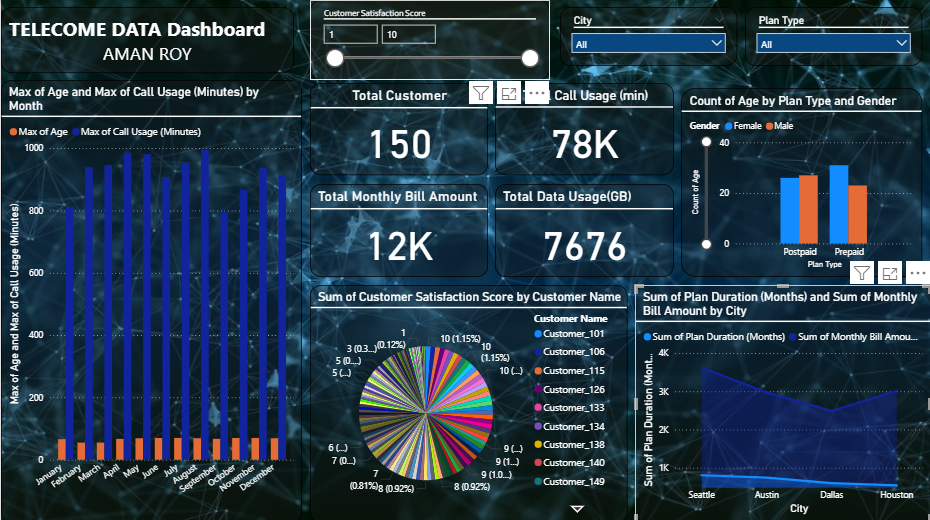

Layout of this report page (visuals, bound fields, positions):
{"tool":"powerbi","page":{"name":"Page 1","canvas":[1280,720],"ordinal":0},"visuals":[{"type":"card","title":"Total Call Usage (min)","fields":{"Values":["Sum(Telecom_Dataset_150.Call Usage (Minutes))"]},"box":[679.9,114.2,246.4,126.6],"z":0},{"type":"card","title":"Total Data Usage(GB)","fields":{"Values":["Sum(Telecom_Dataset_150.Data Usage (GB))"]},"box":[679.9,253.2,246.4,128],"z":1000},{"type":"card","title":"Total Customer","fields":{"Values":["Count(Telecom_Dataset_150.Customer Name)"]},"box":[425.3,114.2,245,126.6],"z":2000},{"type":"card","title":"Total Monthly Bill Amount","fields":{"Values":["Sum(Telecom_Dataset_150.Monthly Bill Amount)"]},"box":[425.3,253.2,245,128],"z":3000},{"type":"clusteredColumnChart","fields":{"Y":["Count(Telecom_Dataset_150.Age)"],"Series":["Telecom_Dataset_150.Gender"],"Category":["Telecom_Dataset_150.Plan Type"]},"box":[935.9,121.1,331.7,260.1],"z":4000},{"type":"slicer","fields":{"Values":["Telecom_Dataset_150.City"]},"box":[770,10,244.3,81.4],"z":5000},{"type":"slicer","fields":{"Values":["Telecom_Dataset_150.Plan Type"]},"box":[1024.3,10,244.3,81.4],"z":6000},{"type":"clusteredColumnChart","fields":{"Category":["Telecom_Dataset_150.Last Recharge Date.Variation.Date Hierarchy.Year","Telecom_Dataset_150.Last Recharge Date.Variation.Date Hierarchy.Quarter","Telecom_Dataset_150.Last Recharge Date.Variation.Date Hierarchy.Month","Telecom_Dataset_150.Last Recharge Date.Variation.Date Hierarchy.Day"],"Y":["Max(Telecom_Dataset_150.Age)","Max(Telecom_Dataset_150.Call Usage (Minutes))"]},"box":[0,110,414.3,610],"z":7000},{"type":"pieChart","fields":{"Category":["Telecom_Dataset_150.Customer Name"],"Y":["Sum(Telecom_Dataset_150.Customer Satisfaction Score)"]},"box":[425.7,392.9,437.1,327.1],"z":8000},{"type":"areaChart","fields":{"Category":["Telecom_Dataset_150.City"],"Y":["Sum(Telecom_Dataset_150.Plan Duration (Months))","Sum(Telecom_Dataset_150.Monthly Bill Amount)"]},"box":[872.9,392.9,407.1,327.1],"z":9000},{"type":"slicer","fields":{"Values":["Telecom_Dataset_150.Customer Satisfaction Score"]},"box":[425.7,0,330,110],"z":10000},{"type":"textbox","box":[0,10,402.9,91.4],"z":11000}]}

Visuals, with their boxes in screenshot pixels (x1, y1, x2, y2), scaled from the page's 1280x720 canvas onto the 930x520 screenshot:
"Total Call Usage (min)" card: (494, 82, 673, 174)
"Total Data Usage(GB)" card: (494, 183, 673, 275)
"Total Customer" card: (309, 82, 487, 174)
"Total Monthly Bill Amount" card: (309, 183, 487, 275)
clusteredColumnChart - Count(Telecom_Dataset_150.Age) x Telecom_Dataset_150.Gender: (680, 87, 921, 275)
slicer - Telecom_Dataset_150.City: (559, 7, 737, 66)
slicer - Telecom_Dataset_150.Plan Type: (744, 7, 922, 66)
clusteredColumnChart - Telecom_Dataset_150.Last Recharge Date.Variation.Date Hierarchy.Year x Telecom_Dataset_150.Last Recharge Date.Variation.Date Hierarchy.Quarter: (0, 79, 301, 519)
pieChart - Telecom_Dataset_150.Customer Name x Sum(Telecom_Dataset_150.Customer Satisfaction Score): (309, 284, 627, 519)
areaChart - Telecom_Dataset_150.City x Sum(Telecom_Dataset_150.Plan Duration (Months)): (634, 284, 929, 519)
slicer - Telecom_Dataset_150.Customer Satisfaction Score: (309, 0, 549, 79)
textbox: (0, 7, 293, 73)
